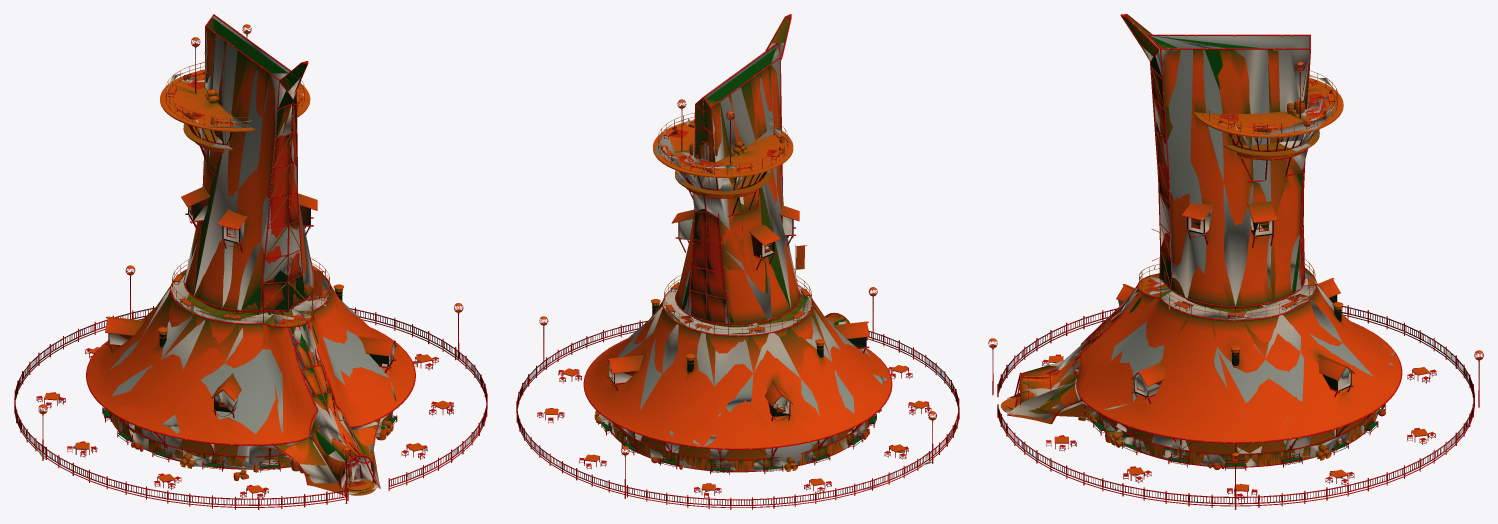
File: KB3D_GAE_BldgLG_D.glb
3 views of the same model, side by side, from view 1: azimuth 30°, elevation 25°; view 2: azimuth 150°, elevation 25°; view 3: azimuth 270°, elevation 25° (orthographic). The views are drawn at different scales.
Visible parts, largest first — view 1: L0, L2, L1; view 2: L0, L2, L1; view 3: L0, L2, L1.
Part boxes in pixels (box(x1,y1,x2,y2)): L0: box(14, 14, 487, 509); L2: box(36, 16, 448, 494); L1: box(26, 16, 486, 497); L0: box(516, 14, 959, 509); L2: box(543, 42, 931, 492); L1: box(522, 15, 943, 496); L0: box(988, 14, 1483, 509); L2: box(1000, 32, 1431, 478); L1: box(989, 17, 1482, 498).
Size of the model in its own units: 51.86 by 45.49 by 51.97.
